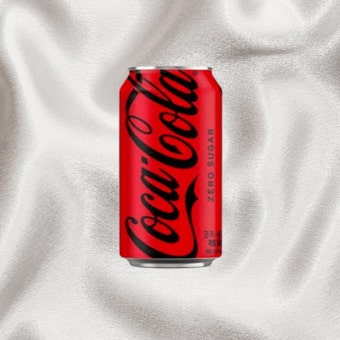paper: (116, 64, 227, 271)
